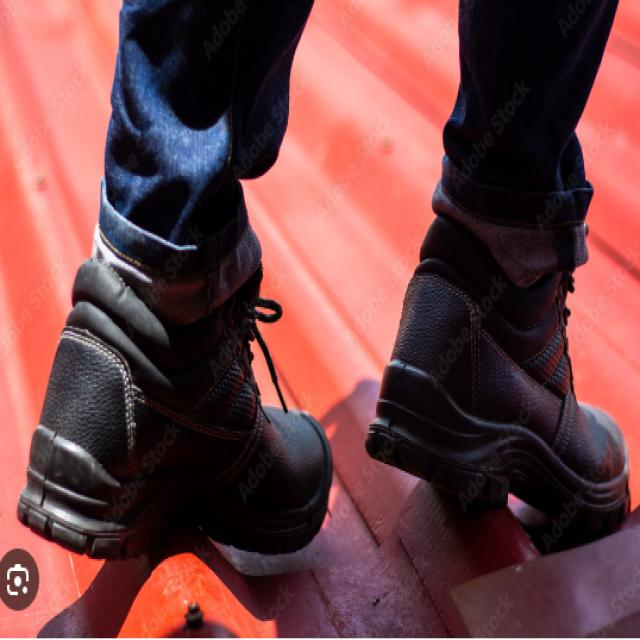boots: (12, 190, 634, 581)
